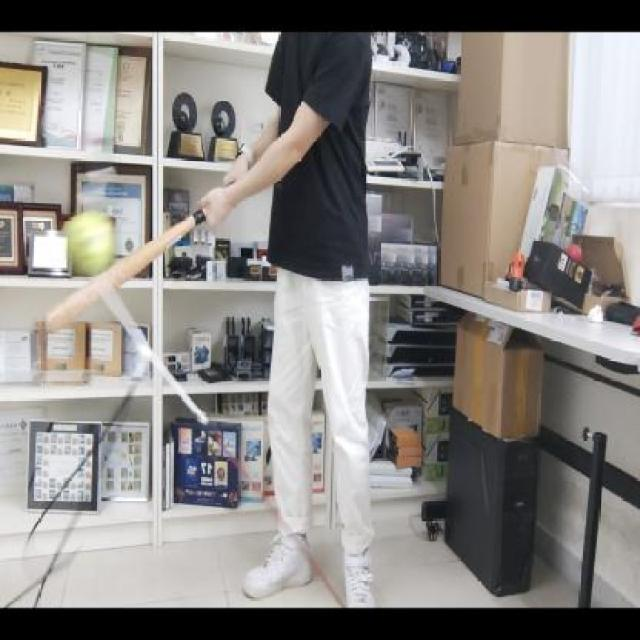baseball: (61, 210, 116, 278)
